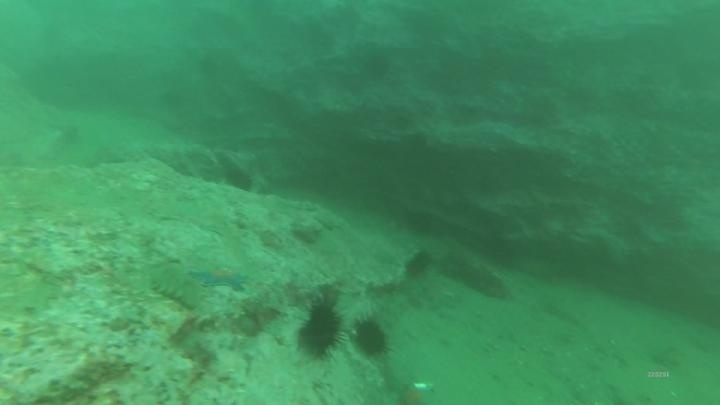echinus: (295, 297, 347, 361), (350, 315, 392, 360), (401, 247, 435, 282), (222, 164, 257, 195)
holothurian: (438, 247, 513, 302), (146, 262, 209, 313)
starfish: (189, 262, 249, 293)
